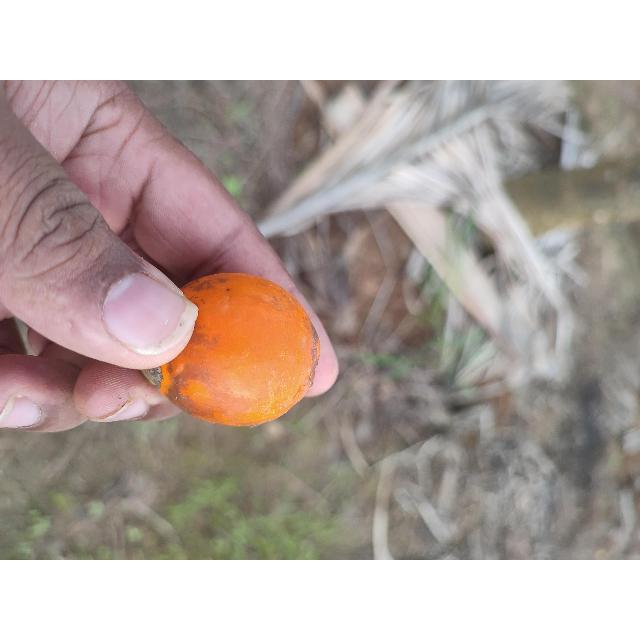good: (144, 273, 340, 428)
